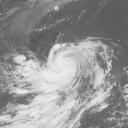cyclone: (35, 40, 92, 93)
